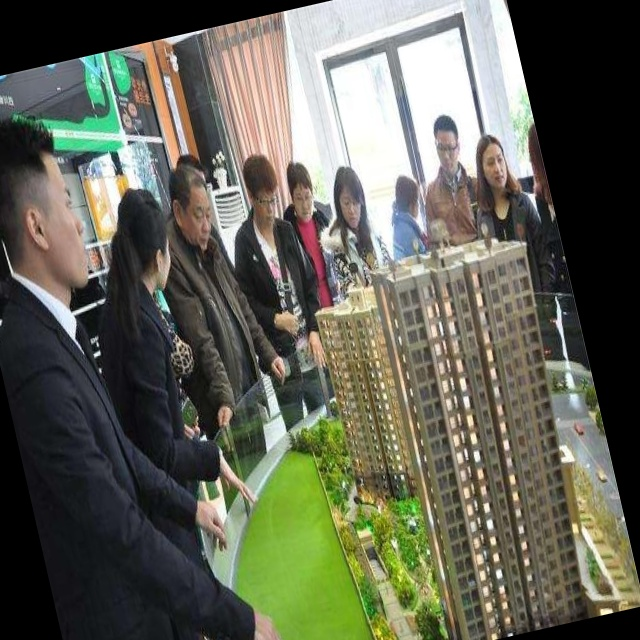Sin_Casco_Mascarrilla: (0, 113, 92, 297), (164, 162, 220, 252), (238, 155, 284, 225), (474, 132, 515, 202)
